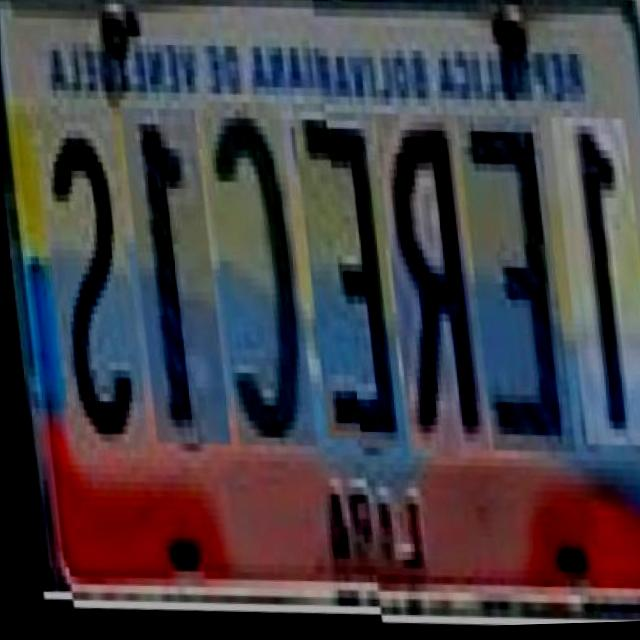1: (116, 112, 220, 454), (547, 111, 640, 445)
c: (198, 105, 306, 455)
e: (452, 110, 564, 452), (288, 107, 395, 449)
r: (370, 109, 477, 451)
s: (30, 110, 138, 460)
